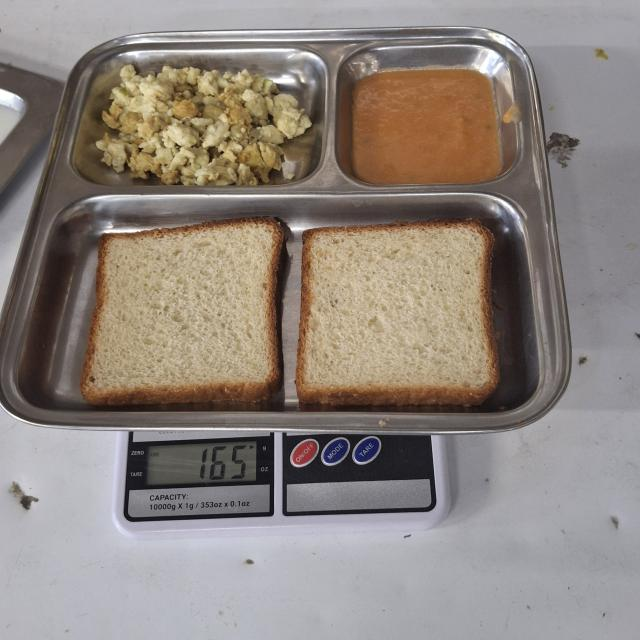Bread: (78, 211, 286, 411), (294, 215, 502, 407)
Chutney: (347, 67, 508, 189)
Egg Bhurji: (92, 56, 315, 194)
